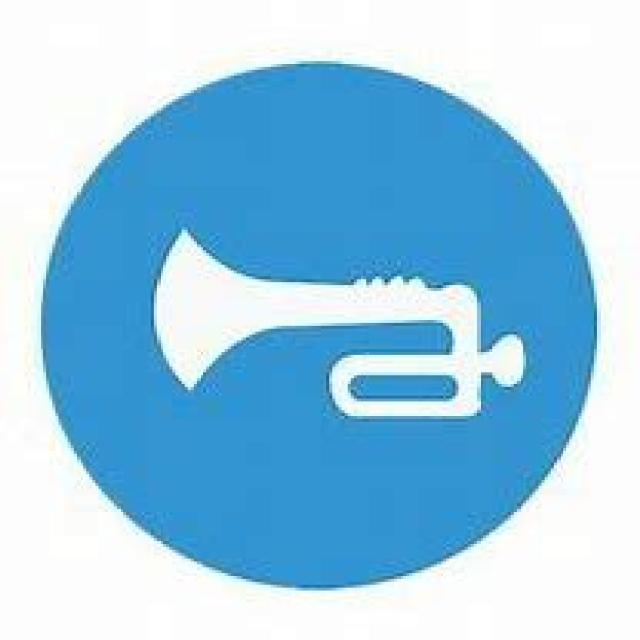COMPULSARY_SOUND_HORN: (33, 55, 610, 598)
